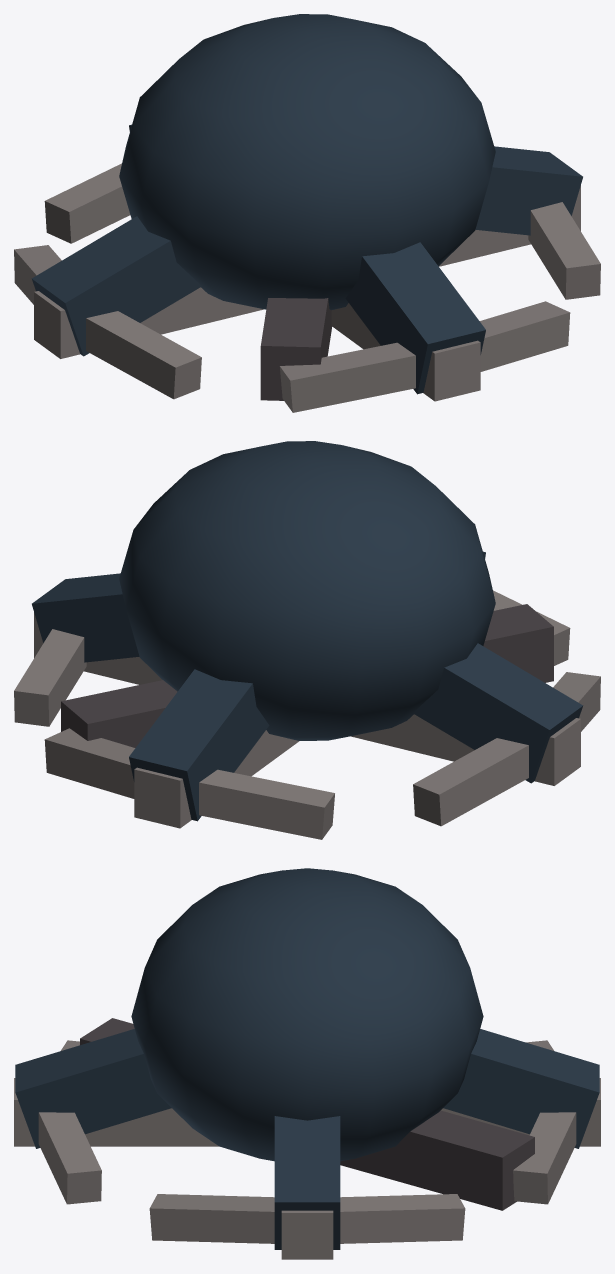
File: CMU3DHiveCMU14XenoMyceliumHiveWeedsSourceHidden.glb
3 renders of one model, top to bottom at view 1: azimuth 30°, elevation 25°; view 2: azimuth 150°, elevation 25°; view 3: azimuth 270°, elevation 25°, orthographic. The views are drawn at different scales.
Parts seen in each view (by area): view 1: root nodule, anchoring root (×3), branching ground filament (×6), tile-joining root (×3), central ground rhizome; view 2: root nodule, anchoring root (×3), branching ground filament (×6), tile-joining root (×3), central ground rhizome; view 3: root nodule, anchoring root (×3), branching ground filament (×4), central ground rhizome, tile-joining root (×3).
Part boxes in pixels (x1=…): root nodule: x1=119, y1=14, x2=495, y2=310; anchoring root (×3): x1=31, y1=146, x2=582, y2=394; branching ground filament (×6): x1=14, y1=163, x2=600, y2=412; tile-joining root (×3): x1=34, y1=185, x2=580, y2=401; central ground rhizome: x1=260, y1=298, x2=332, y2=400; root nodule: x1=119, y1=441, x2=495, y2=740; anchoring root (×3): x1=32, y1=573, x2=583, y2=821; branching ground filament (×6): x1=14, y1=590, x2=600, y2=839; tile-joining root (×3): x1=34, y1=612, x2=580, y2=828; central ground rhizome: x1=61, y1=604, x2=553, y2=747; root nodule: x1=131, y1=868, x2=483, y2=1161; anchoring root (×3): x1=15, y1=1029, x2=599, y2=1249; branching ground filament (×4): x1=38, y1=1112, x2=576, y2=1243; central ground rhizome: x1=80, y1=1018, x2=534, y2=1210; tile-joining root (×3): x1=14, y1=1078, x2=600, y2=1259.
Bounding box in the file's own units: 0.5 × 0.24 × 0.5.
